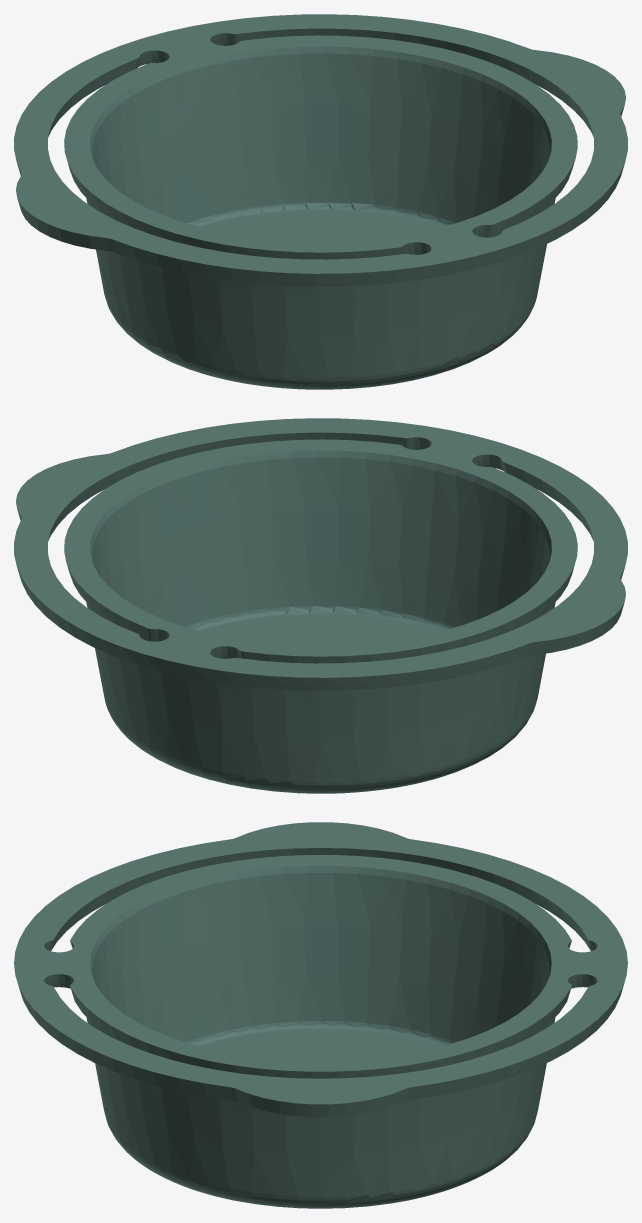
File: SRSTCFPCR.glb
The picture shows the model from 3 angles, top to bottom: view 1: azimuth 30°, elevation 25°; view 2: azimuth 150°, elevation 25°; view 3: azimuth 270°, elevation 25°; orthographic projection.
Parts seen in each view (by area): view 1: 20747923; view 2: 20747923; view 3: 20747923.
Boxes of the visible parts, x1,y1,x2,y2 form: 20747923: (14,14,627,389); 20747923: (14,418,627,793); 20747923: (14,822,627,1208).
Bounding box in the file's own units: 1 × 0.2686 × 0.9196.
